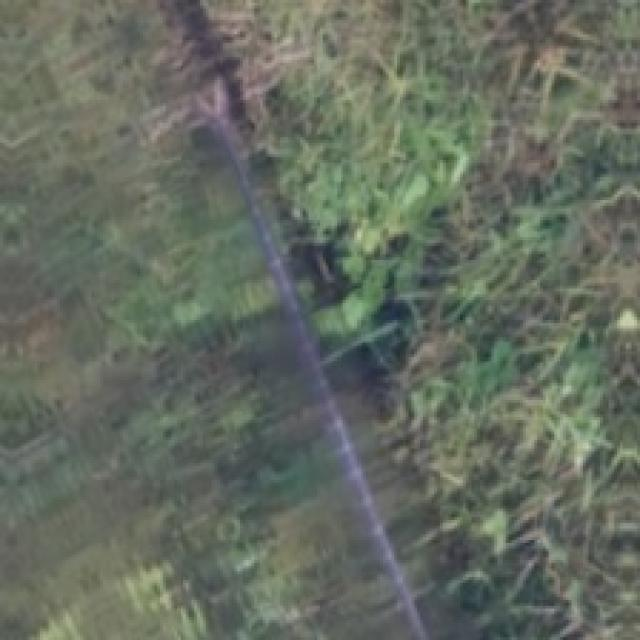king cobra: (157, 0, 429, 637), (157, 0, 249, 160)
